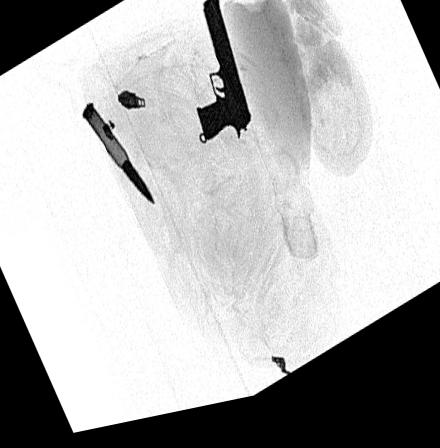Bullet: (82, 107, 152, 212)
Gun: (194, 3, 251, 152)
